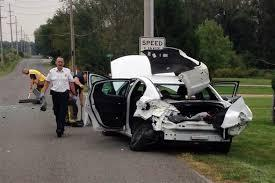quaterpanel-dent: (140, 98, 172, 128)
